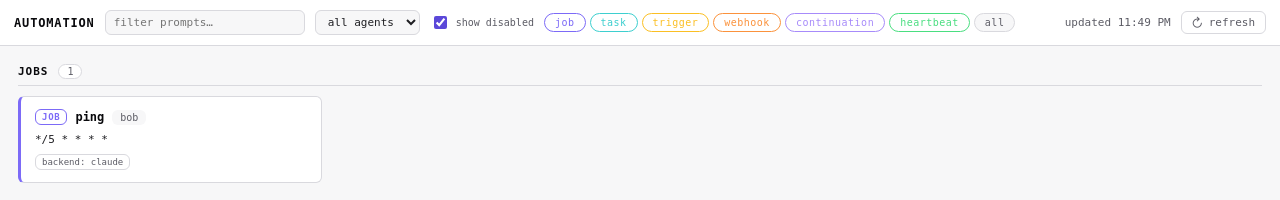
Test: AutomationView › hides a kind's section when its filter pill is toggled off
Click the button with class "kind-pill" showing "job".
click(565, 22)  # box x1=544 y1=13 x2=586 y2=32
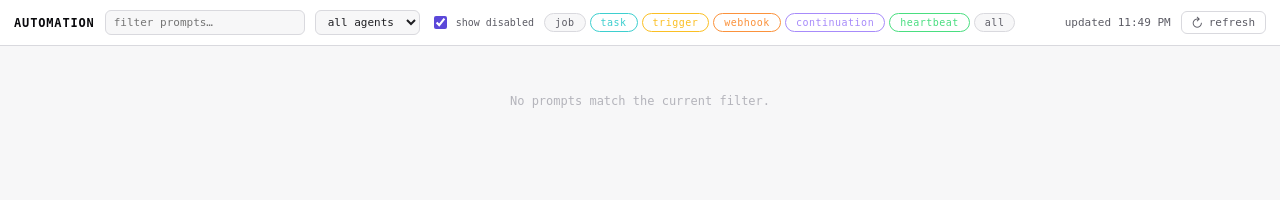
Now the text "ping" is gone
